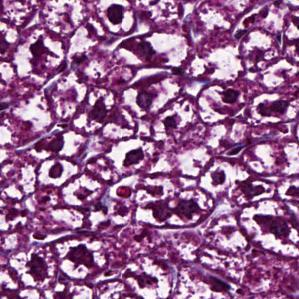inflammation: (130, 171, 217, 228), (237, 196, 299, 258), (114, 27, 190, 70), (52, 234, 109, 281), (21, 126, 84, 159), (245, 90, 293, 125)
